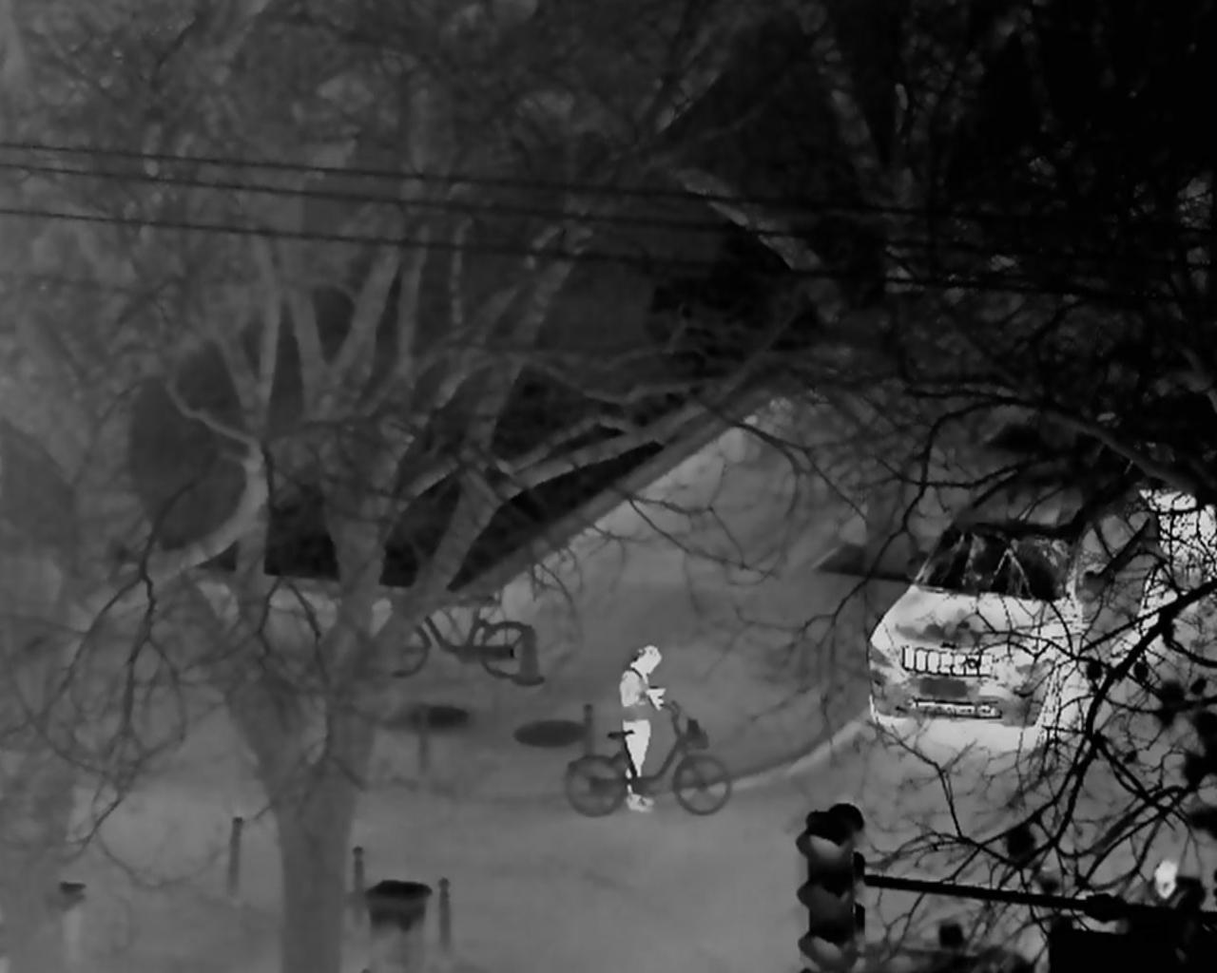person: (617, 642, 667, 810)
